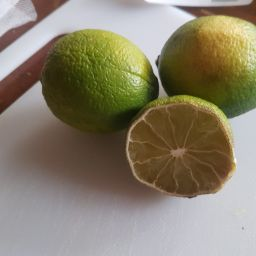Lemon: (122, 90, 243, 212), (40, 25, 162, 143), (146, 12, 256, 120)
